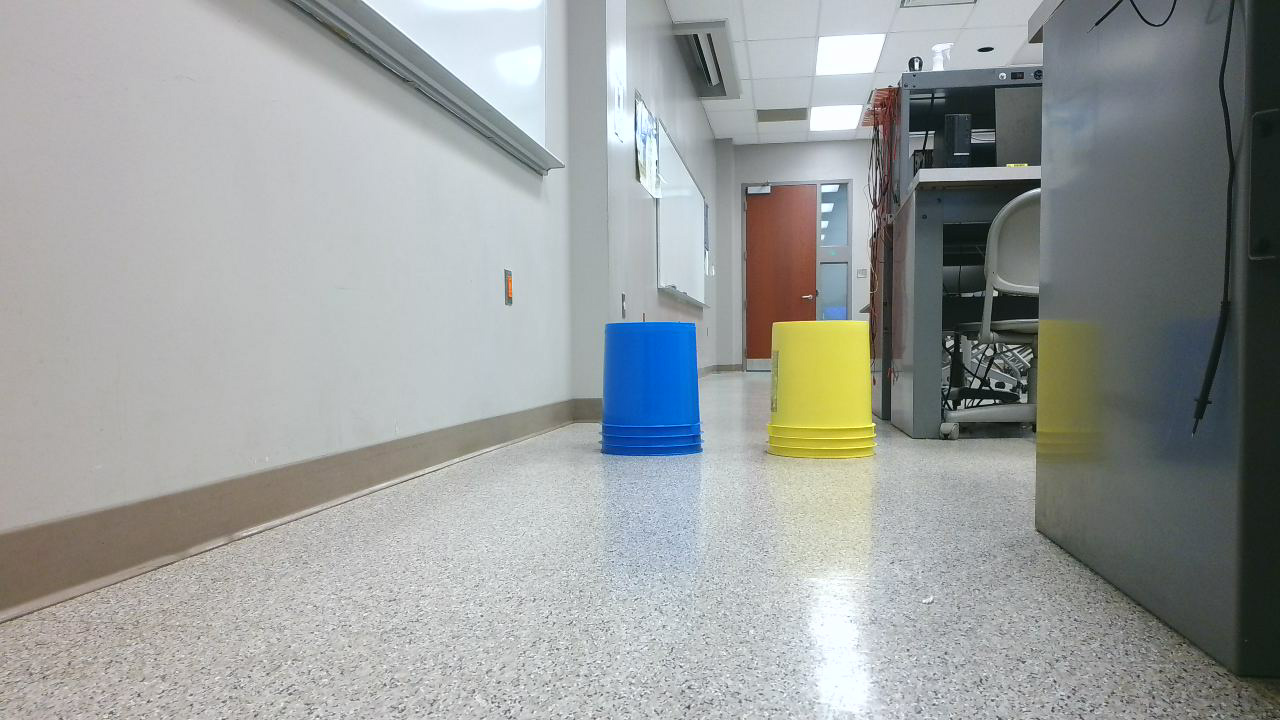blue_bucket: (597, 322, 715, 465)
yellow_bucket: (763, 319, 888, 471)
